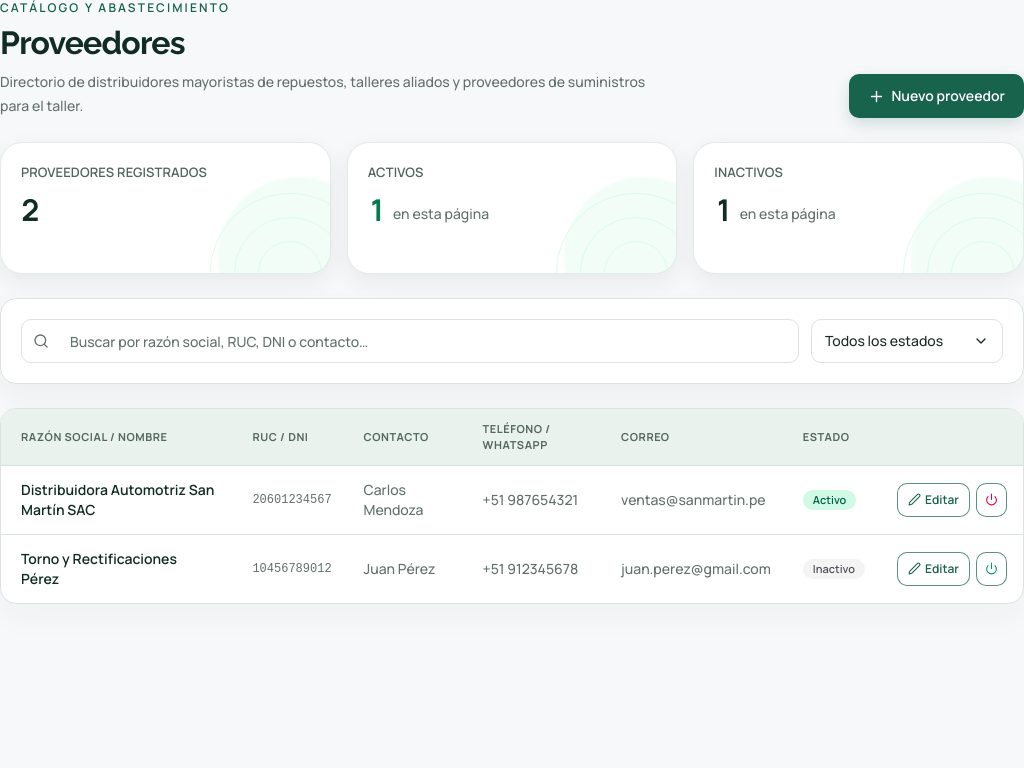
Test: SuppliersPage › abre el modal de creación al hacer clic en Nuevo proveedor
Click the button "Nuevo proveedor". click: (937, 96)
box: [849,74,1023,118]
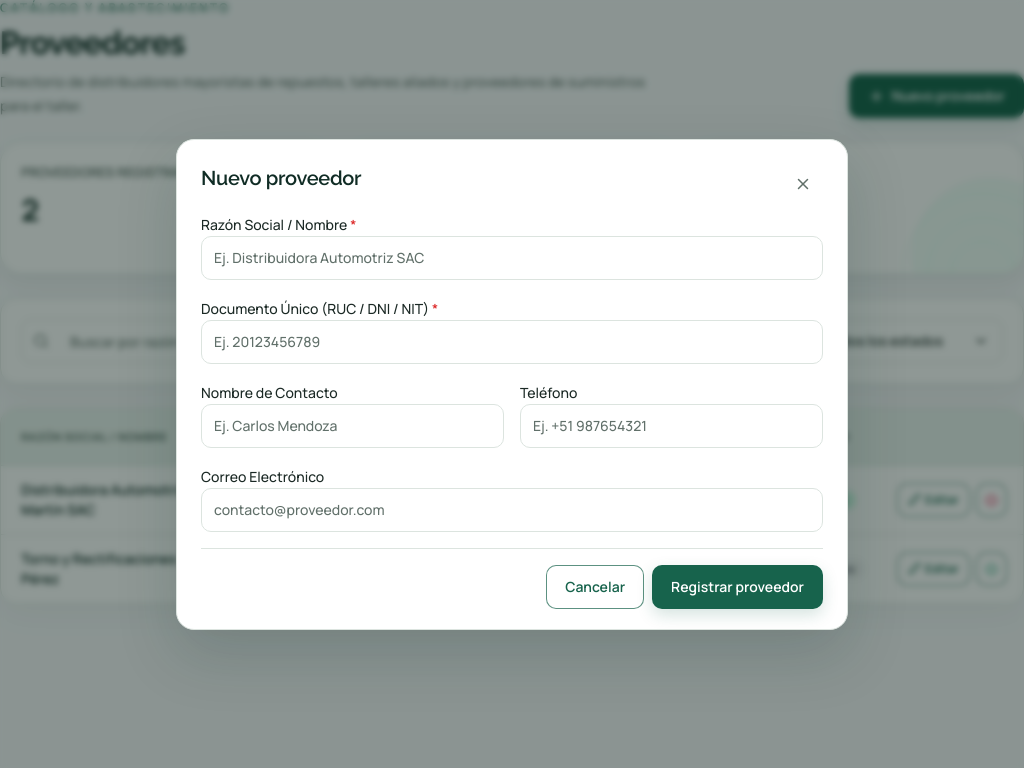
Expected: the dialog is shown, [176,138,848,630]
Expected: the heading "Nuevo proveedor" is shown, [201,166,361,190]
Expected: the field labelled "Razón Social / Nombre *" is shown, [202,236,822,278]
